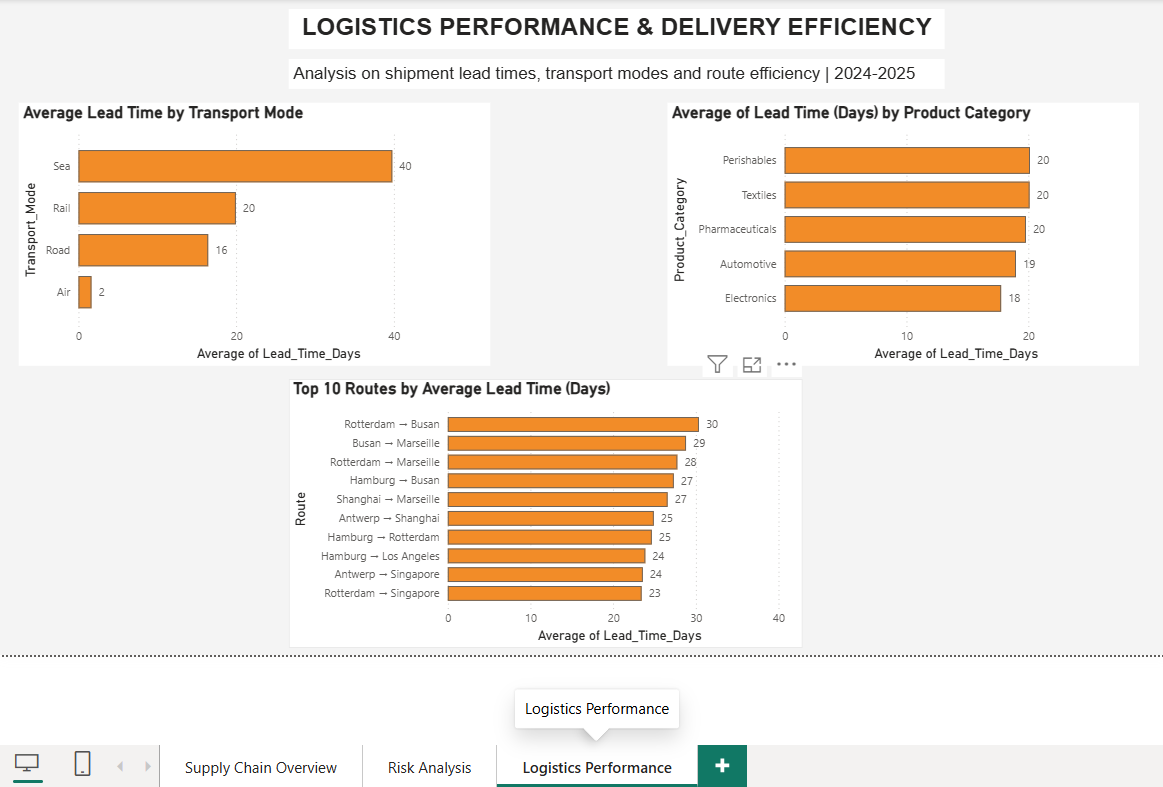

The dashboard page shown, as its layout file describes it:
{"tool":"powerbi","page":{"name":"Logistics Performance","canvas":[1280,720],"ordinal":2},"visuals":[{"type":"textbox","box":[316.7,11,720.2,44],"z":0},{"type":"textbox","box":[316.7,66,720.2,33],"z":1000},{"type":"clusteredBarChart","title":"Average Lead Time by Transport Mode","fields":{"Category":["Shipments.Transport_Mode"],"Y":["Avg(Shipments.Lead_Time_Days)"]},"box":[20.8,113.7,517.3,288.6],"z":2000},{"type":"clusteredBarChart","title":"Average of Lead Time (Days) by Product Category","fields":{"Category":["Shipments.Product_Category"],"Y":["Avg(Shipments.Lead_Time_Days)"]},"box":[732.5,113.7,517.3,288.6],"z":3000},{"type":"clusteredBarChart","title":"Top 10 Routes by Average Lead Time (Days)","fields":{"Category":["Shipments.Route"],"Y":["Avg(Shipments.Lead_Time_Days)"]},"box":[317,417.2,564,295],"z":4000}]}

Visuals, with their boxes on the page's 1280x720 design canvas (x1, y1, x2, y2). These are canvas units, not pixel positions in the 1163x787 screenshot, which may show the page scaled, cropped or inside an application window:
textbox: crop(317, 11, 1037, 55)
textbox: crop(317, 66, 1037, 99)
"Average Lead Time by Transport Mode" clusteredBarChart: crop(21, 114, 538, 402)
"Average of Lead Time (Days) by Product Category" clusteredBarChart: crop(732, 114, 1250, 402)
"Top 10 Routes by Average Lead Time (Days)" clusteredBarChart: crop(317, 417, 881, 712)
